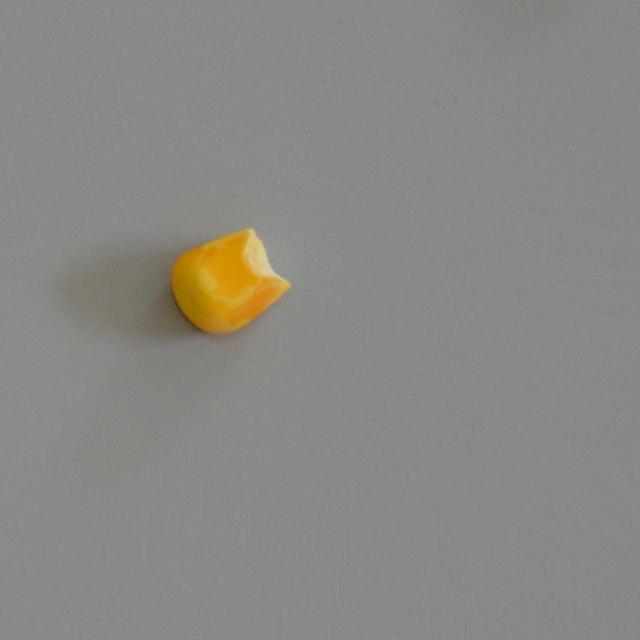no_desgerminado: (167, 225, 291, 336)
